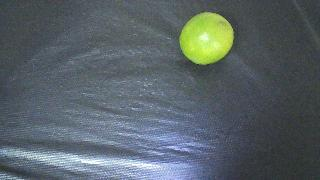LOCAL: (179, 12, 234, 65)
